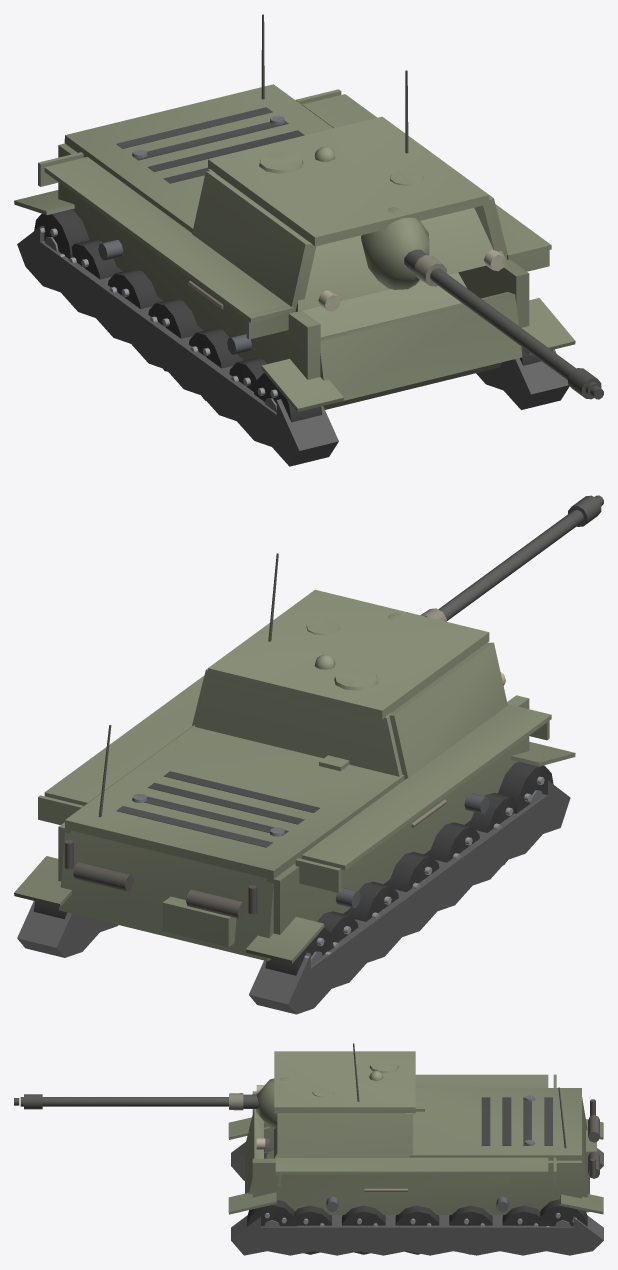
The picture shows the model from 3 angles, top to bottom: view 1: azimuth 30°, elevation 25°; view 2: azimuth 150°, elevation 25°; view 3: azimuth 270°, elevation 25°; orthographic projection. The views are drawn at different scales.
Parts seen in each view (by area): view 1: hullSide, tracks, turretRoof, hullTop, lowerPlate, mantlet, turretSide, glacis, barrel, wheel6, wheel2, wheel1 (+4 smaller); view 2: hullTop, hullSide, tracks, turretRoof, turretSide, hullRear, barrel, wheel5, wheel2, wheel3, wheel1, wheel4 (+2 smaller); view 3: hullSide, tracks, hullTop, turretRoof, turretSide, barrel, hullRear, wheel12, wheel13, lowerPlate, mantlet, wheel10 (+4 smaller).
Boxes of the visible parts, <box> form: hullSide: <box>38,89,551,379</box>; tracks: <box>14,190,575,466</box>; turretRoof: <box>208,70,489,246</box>; hullTop: <box>65,84,333,232</box>; lowerPlate: <box>320,292,522,400</box>; mantlet: <box>295,207,506,311</box>; turretSide: <box>192,169,507,311</box>; glacis: <box>302,272,501,409</box>; barrel: <box>404,249,603,399</box>; wheel6: <box>34,209,89,258</box>; wheel2: <box>148,298,203,371</box>; wheel1: <box>108,269,163,308</box>; hullTop: <box>65,725,404,878</box>; hullSide: <box>38,672,551,934</box>; tracks: <box>14,741,575,1014</box>; turretRoof: <box>208,553,489,719</box>; turretSide: <box>192,642,507,779</box>; hullRear: <box>59,725,273,961</box>; barrel: <box>420,495,603,621</box>; wheel5: <box>498,762,553,813</box>; wheel2: <box>384,852,439,892</box>; wheel3: <box>424,822,479,862</box>; wheel1: <box>343,881,398,921</box>; wheel4: <box>465,792,515,865</box>; hullSide: <box>252,1074,581,1214</box>; tracks: <box>228,1117,603,1255</box>; hullTop: <box>409,1088,581,1160</box>; turretRoof: <box>274,1043,415,1113</box>; turretSide: <box>277,1113,412,1157</box>; barrel: <box>14,1093,258,1110</box>; hullRear: <box>558,1087,599,1212</box>; wheel12: <box>247,1199,296,1226</box>; wheel13: <box>538,1199,587,1227</box>; lowerPlate: <box>245,1109,263,1194</box>; mantlet: <box>256,1077,289,1159</box>; wheel10: <box>342,1205,385,1254</box>.
Size of the model in its own units: 4.18 by 3.83 by 10.75.
